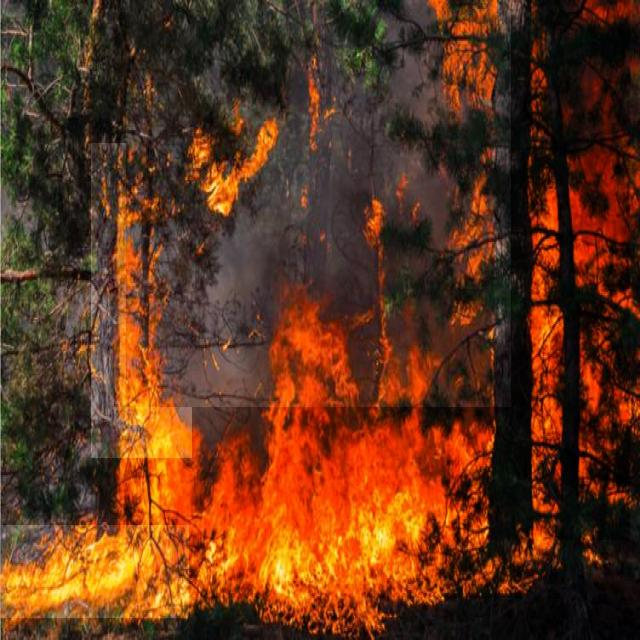Fire: (442, 0, 630, 540), (125, 357, 522, 598), (91, 143, 192, 458), (1, 525, 189, 618), (190, 103, 272, 222)
Smoke: (126, 0, 511, 407)
